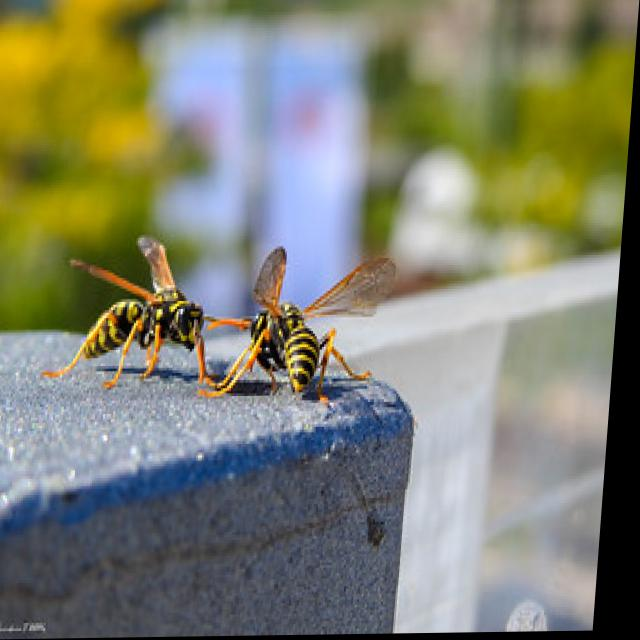Guepe: (45, 211, 231, 396), (210, 242, 409, 404)
